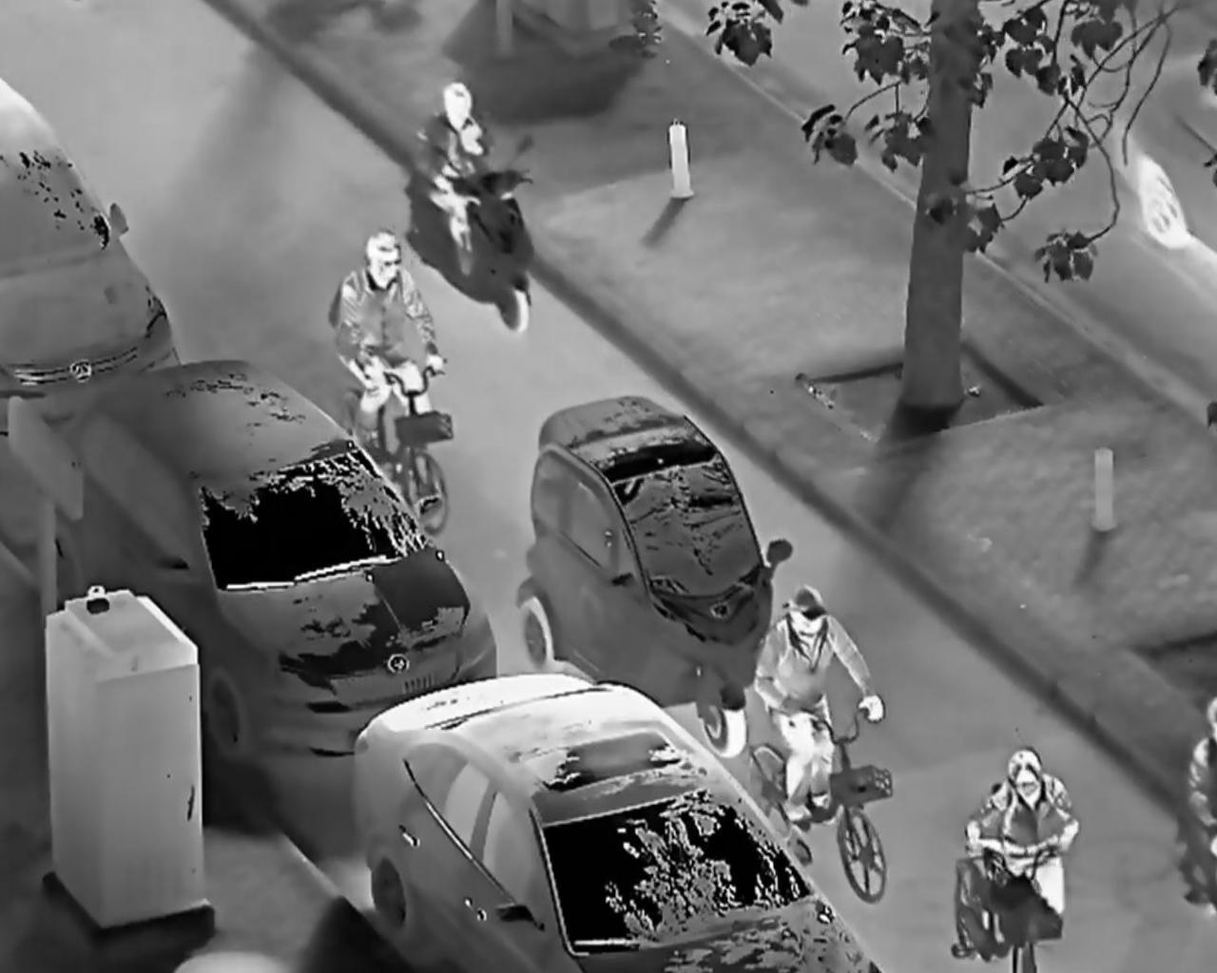person: (753, 582, 889, 825), (327, 229, 457, 479), (964, 746, 1082, 944), (408, 78, 496, 253)
